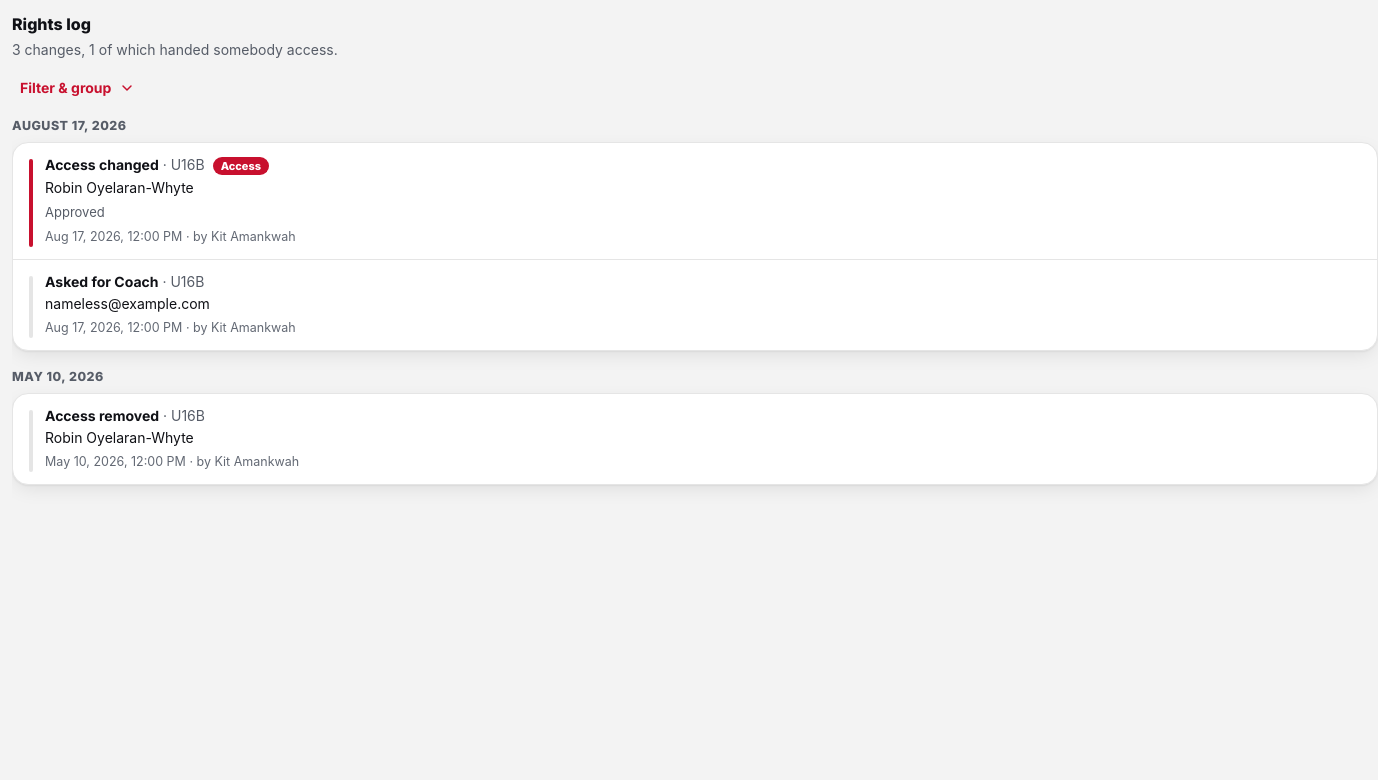
Test: AdminRightsLog — filtering and grouping the window › keeps the controls collapsed until asked, so the screen opens on the log
The image size is (1378, 780).
Click the button with test id "audit-filter-toggle": {"x": 78, "y": 88} [12,72,143,104]
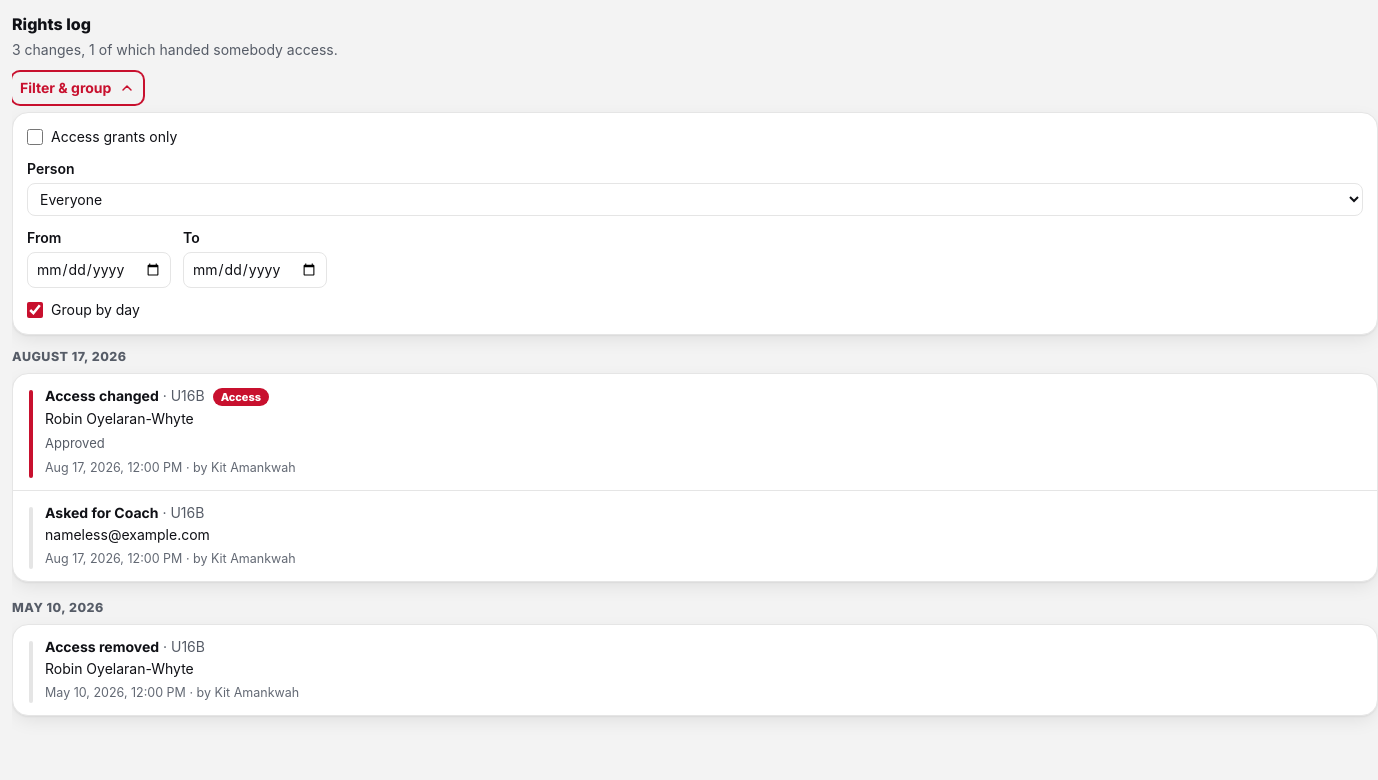
Check: the checkbox with test id "filter-elevations" is shown, box [27,129,43,145]
Check: the dropdown with test id "filter-person" is shown, box [27,183,1363,216]
